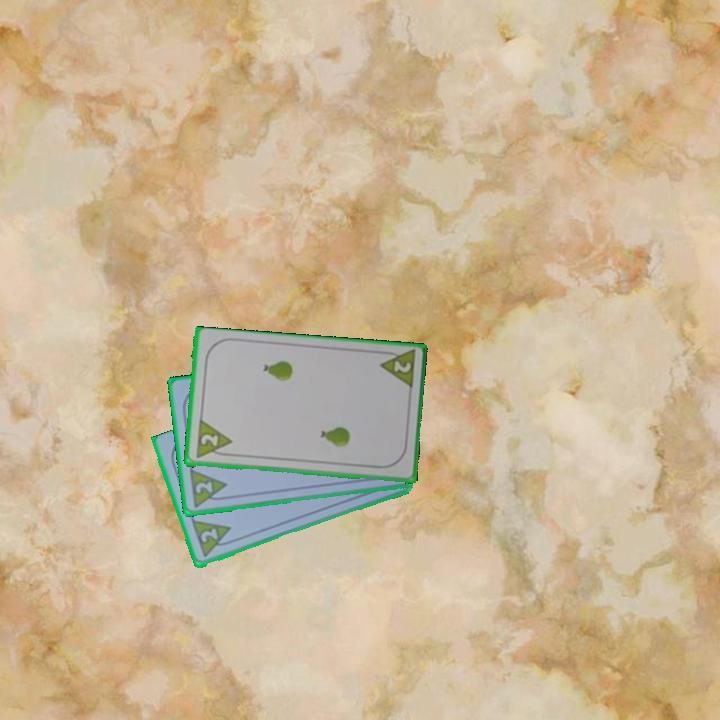2p: (188, 517, 237, 561), (186, 466, 230, 511), (192, 418, 234, 462), (376, 348, 418, 392)
